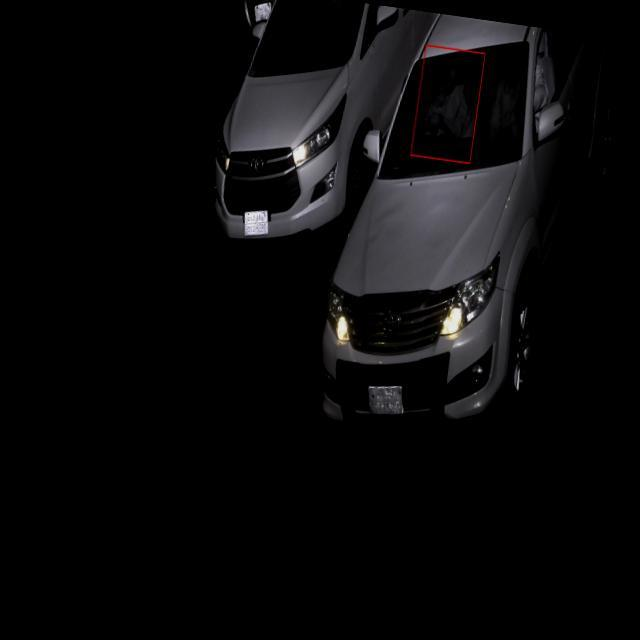windshield: (370, 33, 540, 183), (244, 0, 363, 83)
